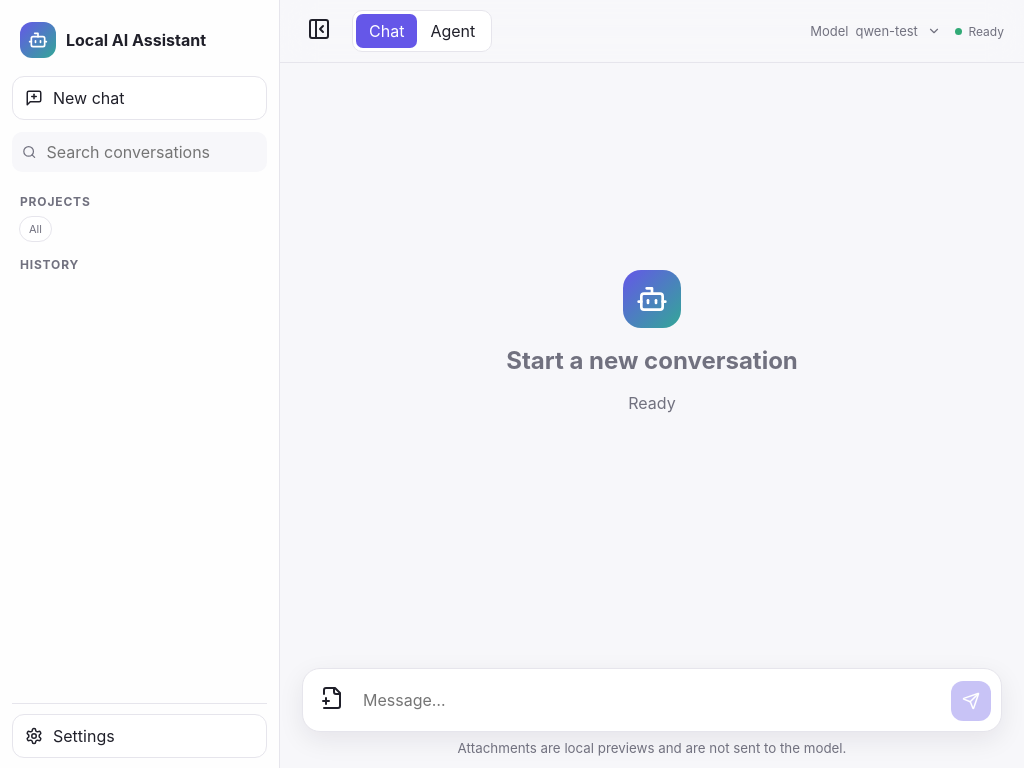
Test: modern desktop › shows the build version and service and execution boundaries in en
This screenshot has width=1024, height=768.
Click the button "Settings" at [140, 736], box [12,714,267,758]
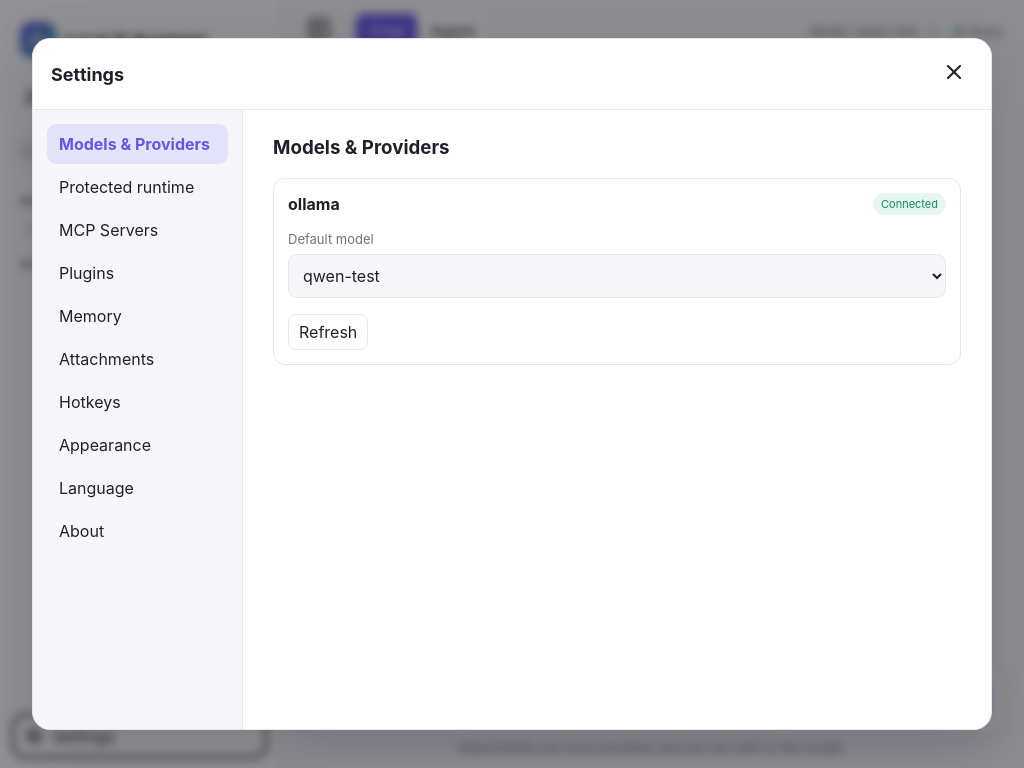
Click the button "About" at [138, 531], box [47,511,228,551]
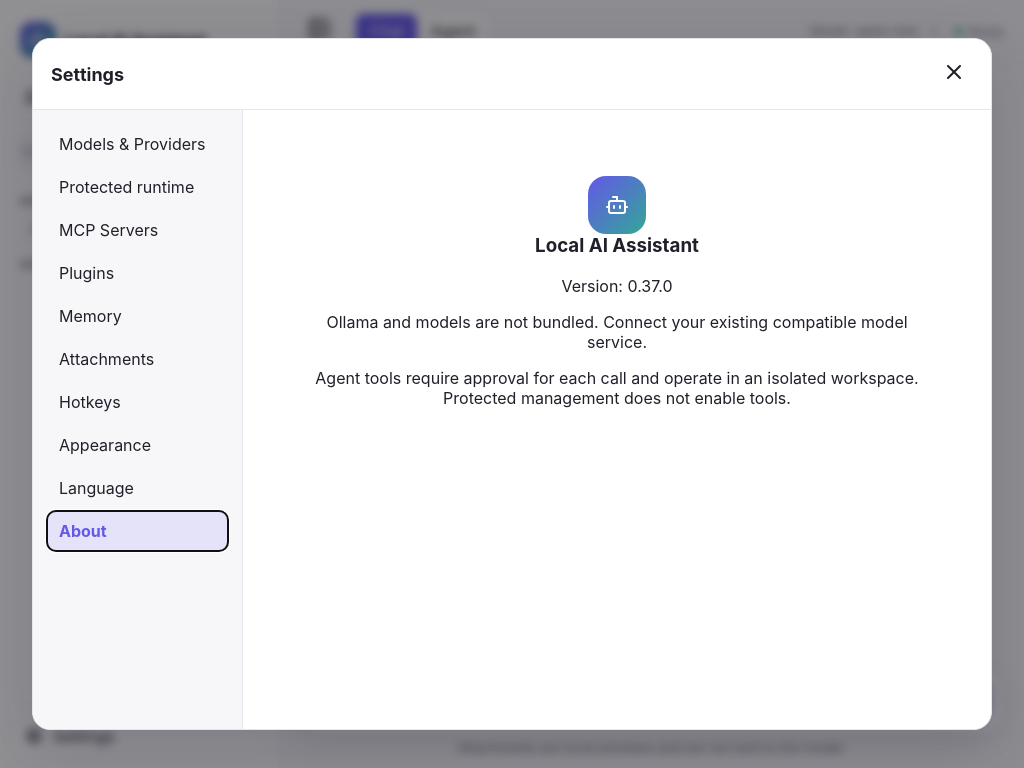
Check: the text "Ollama and models are not bundled. Connect your existing compatible model service." is shown, box [326,312,908,352]
Check: the text "Agent tools require approval for each call and operate in an isolated workspace. Protected management does not enable to" is shown, box [315,368,919,408]
